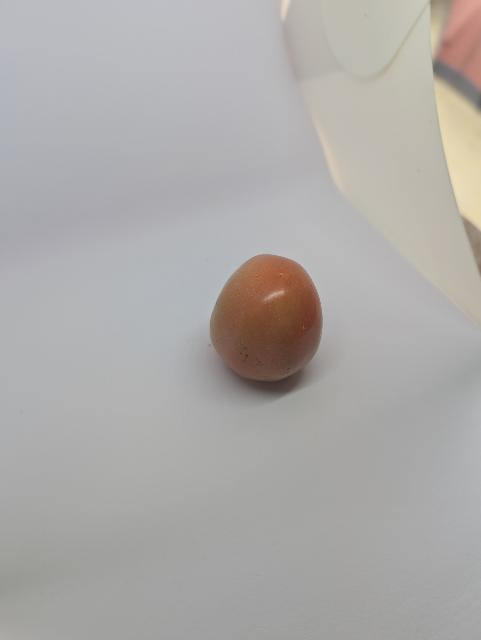turning: (209, 250, 330, 384)
